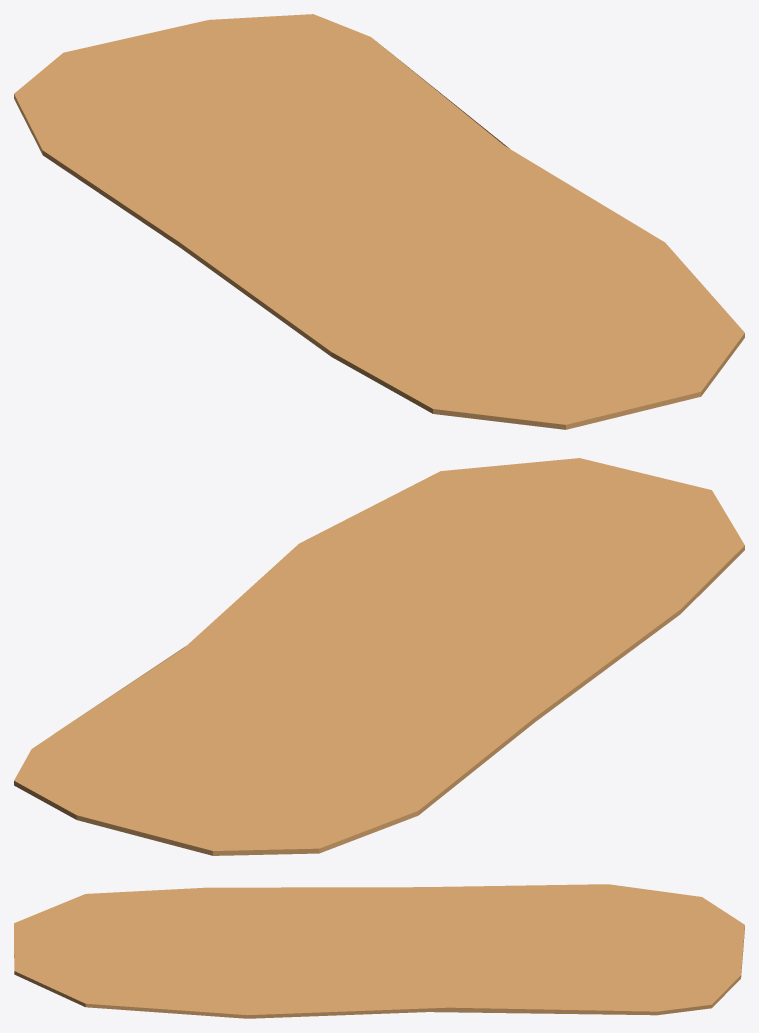
The model's file is brown ground 2.fbx.
3 views of the same model, one above another, from view 1: azimuth 30°, elevation 25°; view 2: azimuth 150°, elevation 25°; view 3: azimuth 270°, elevation 25° (orthographic). The views are drawn at different scales.
Visible parts, largest first — view 1: Plane.012; view 2: Plane.012; view 3: Plane.012.
Part boxes in pixels (<box>): Plane.012: <box>14,14,744,429</box>; Plane.012: <box>14,458,744,855</box>; Plane.012: <box>14,884,744,1018</box>.
Bounding box in the file's own units: 1012 × 13 × 2385.
